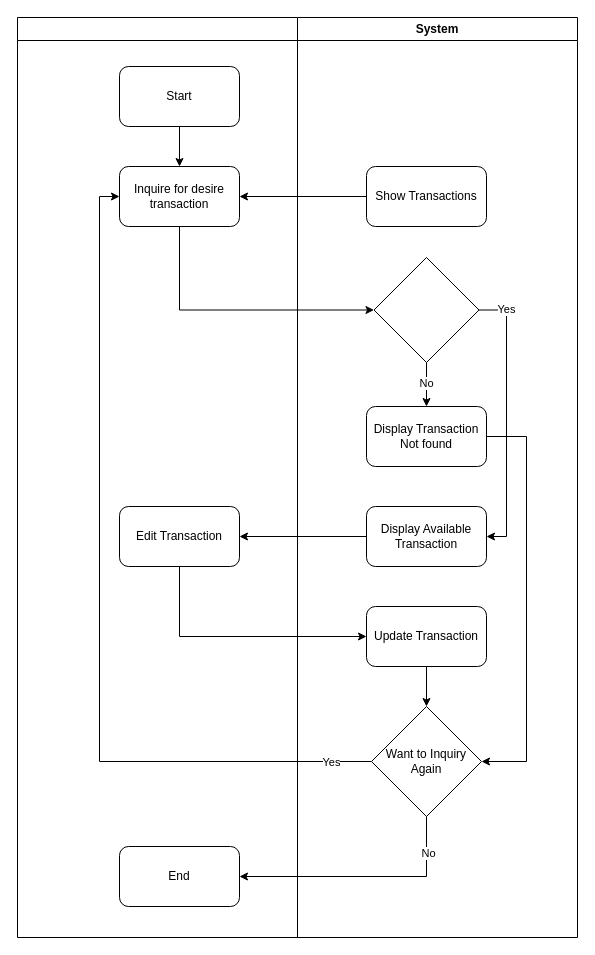
The diagram is 595 pixels wide and 955 high, and some of its shapes have lost their labels. The shapes that lost their labels are listed below. From the top down, each one's centre as x and y in pixels, then its label:
the point at 426,309: Is transaction found
the point at 157,477: User
